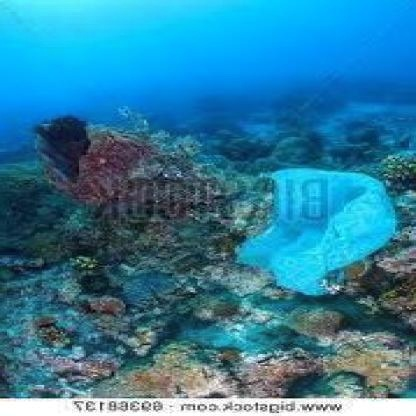pbag: (235, 167, 395, 295)
